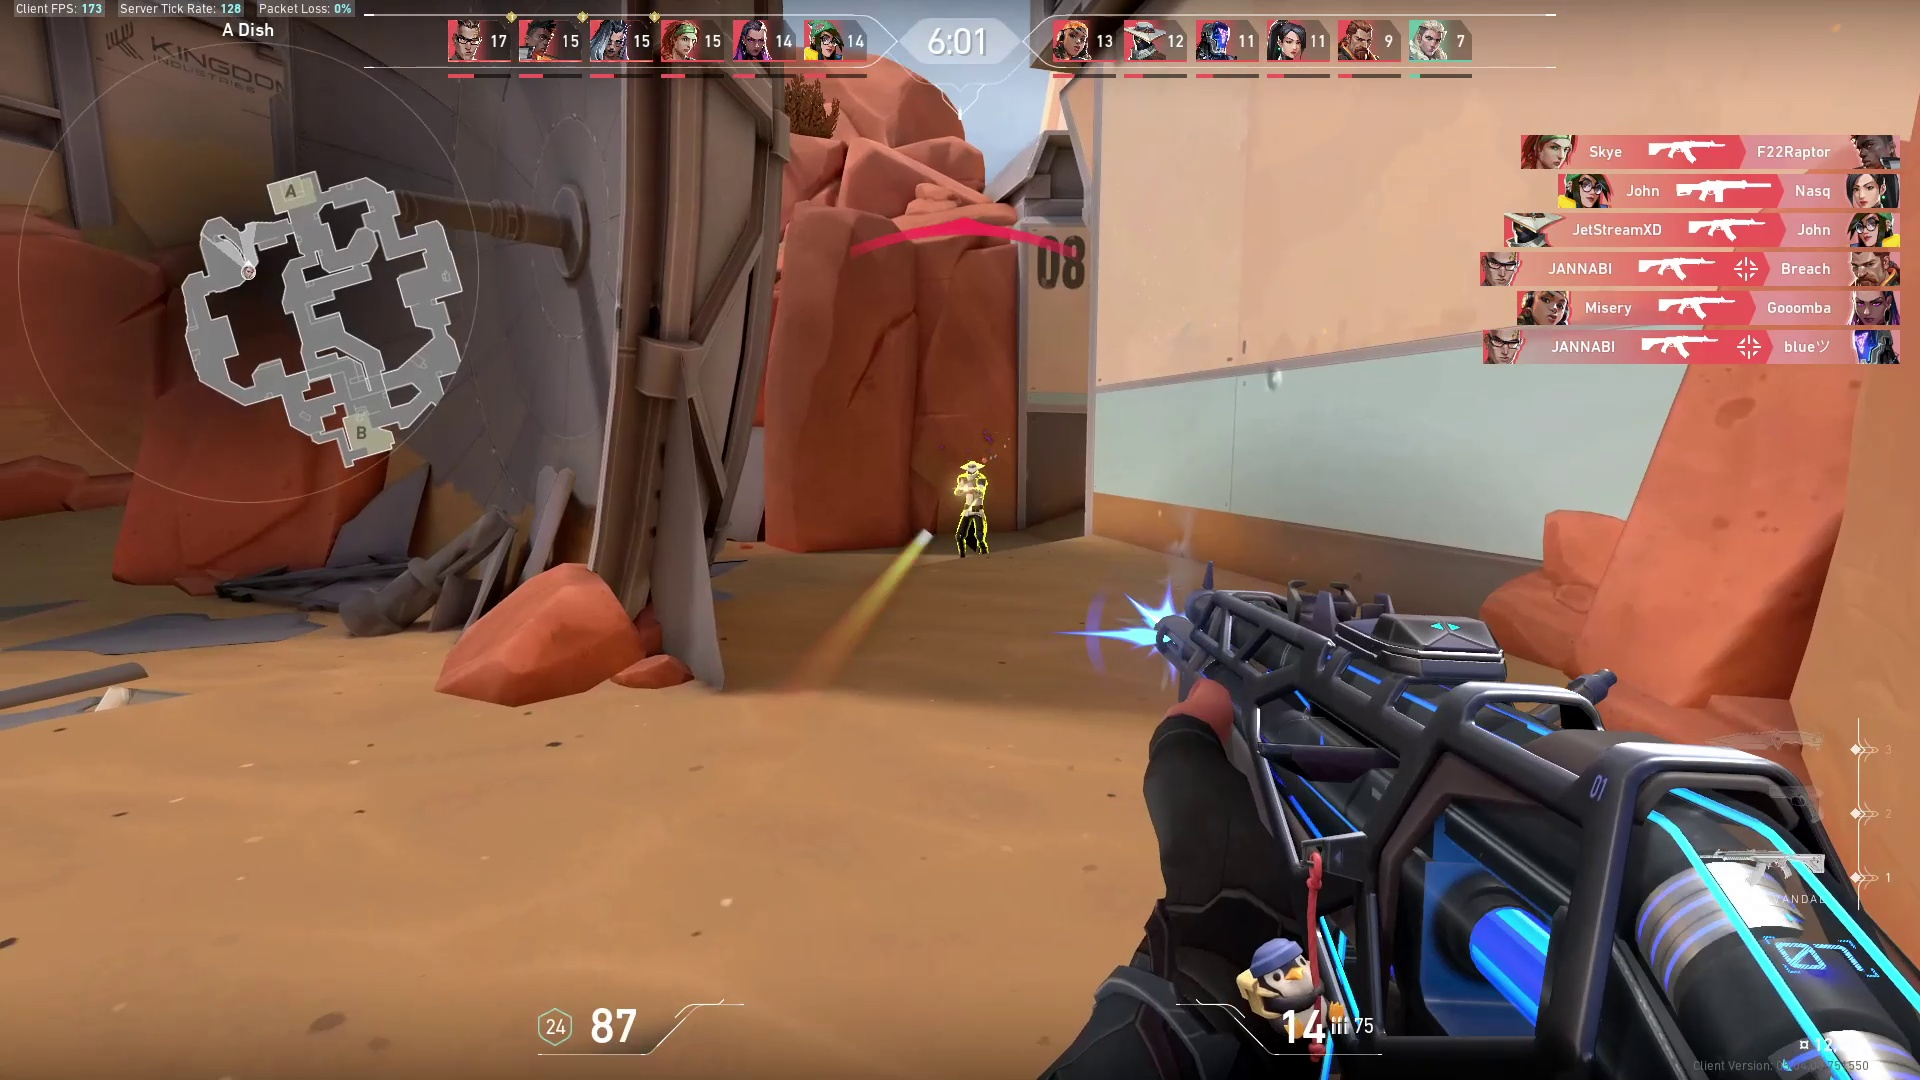enemy_body: (949, 476, 1004, 559)
enemy_head: (959, 456, 984, 477)
